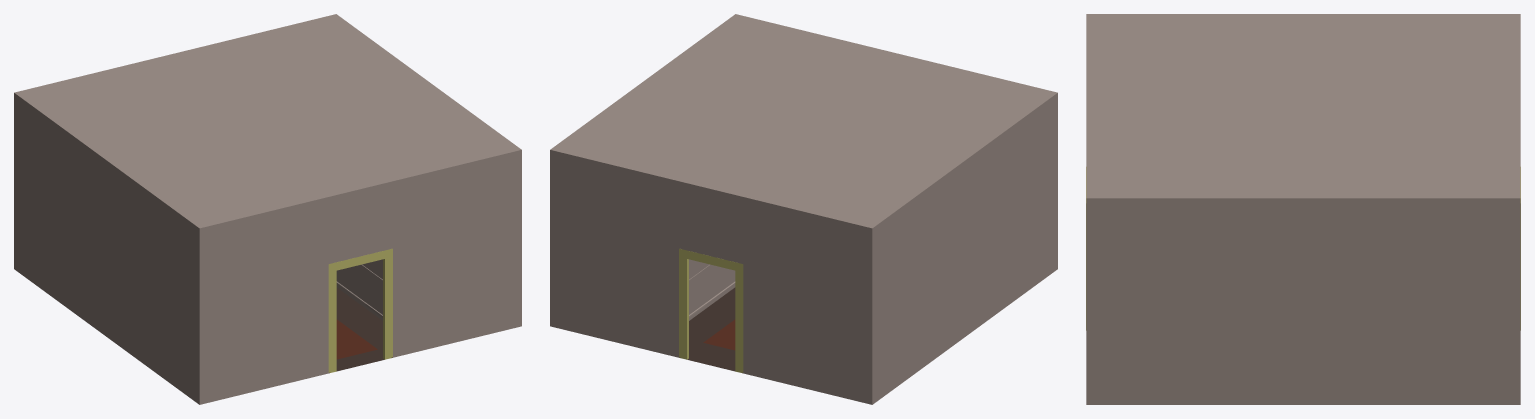
The model's file is Room41_StatuaryCorridor.fbx.
3 renders of one model, left to right at view 1: azimuth 30°, elevation 25°; view 2: azimuth 150°, elevation 25°; view 3: azimuth 270°, elevation 25°, orthographic. The views are drawn at different scales.
Parts seen in each view (by area): view 1: Roof, WallPosX, WallNegX, WallSlicedPosZ, WallPosX28, WallNegX6, WallSlicedPosZ18, DoorFramePosZ, Floor, pPlane14; view 2: Roof, WallPosX, WallNegX, WallSlicedNegZ, WallPosX28, WallNegX6, WallSlicedNegZ19, DoorFrameNegZ, Floor, pPlane14; view 3: WallNegX, Roof, WallNegX6, WallPosX.
Boxes of the visible parts, bbox=[...] form: Roof: bbox=[17, 15, 518, 227]; WallPosX: bbox=[14, 69, 297, 364]; WallNegX: bbox=[239, 14, 521, 309]; WallSlicedPosZ: bbox=[296, 173, 424, 340]; WallPosX28: bbox=[14, 229, 297, 404]; WallNegX6: bbox=[336, 264, 521, 349]; WallSlicedPosZ18: bbox=[296, 310, 424, 381]; DoorFramePosZ: bbox=[328, 248, 392, 372]; Floor: bbox=[329, 287, 392, 373]; pPlane14: bbox=[336, 319, 377, 359]; Roof: bbox=[553, 15, 1054, 227]; WallPosX: bbox=[774, 69, 1057, 364]; WallNegX: bbox=[550, 14, 832, 309]; WallSlicedNegZ: bbox=[647, 173, 775, 340]; WallPosX28: bbox=[773, 229, 1057, 404]; WallNegX6: bbox=[550, 264, 735, 349]; WallSlicedNegZ19: bbox=[647, 310, 775, 380]; DoorFrameNegZ: bbox=[679, 248, 743, 372]; Floor: bbox=[679, 287, 742, 373]; pPlane14: bbox=[703, 319, 735, 350]; WallNegX: bbox=[1086, 142, 1520, 357]; Roof: bbox=[1088, 15, 1518, 197]; WallNegX6: bbox=[1086, 357, 1520, 404]; WallPosX: bbox=[1086, 14, 1520, 69].
Size of the model in its own units: 802 by 420 by 800.
